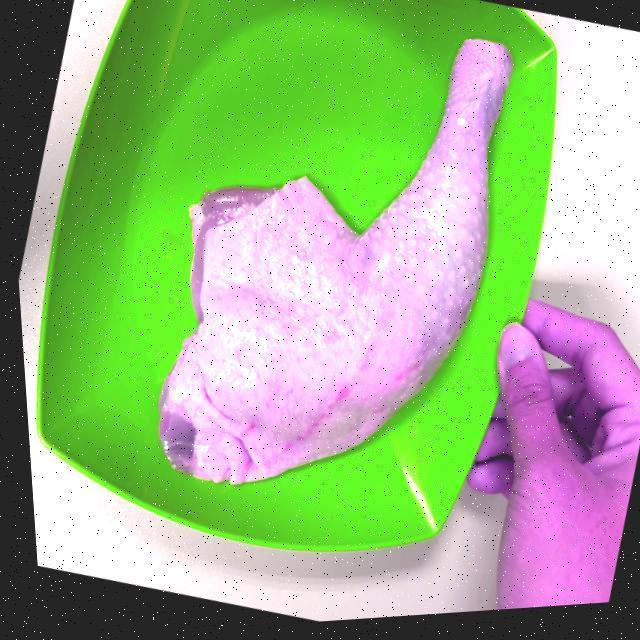quater: (190, 39, 510, 451)
